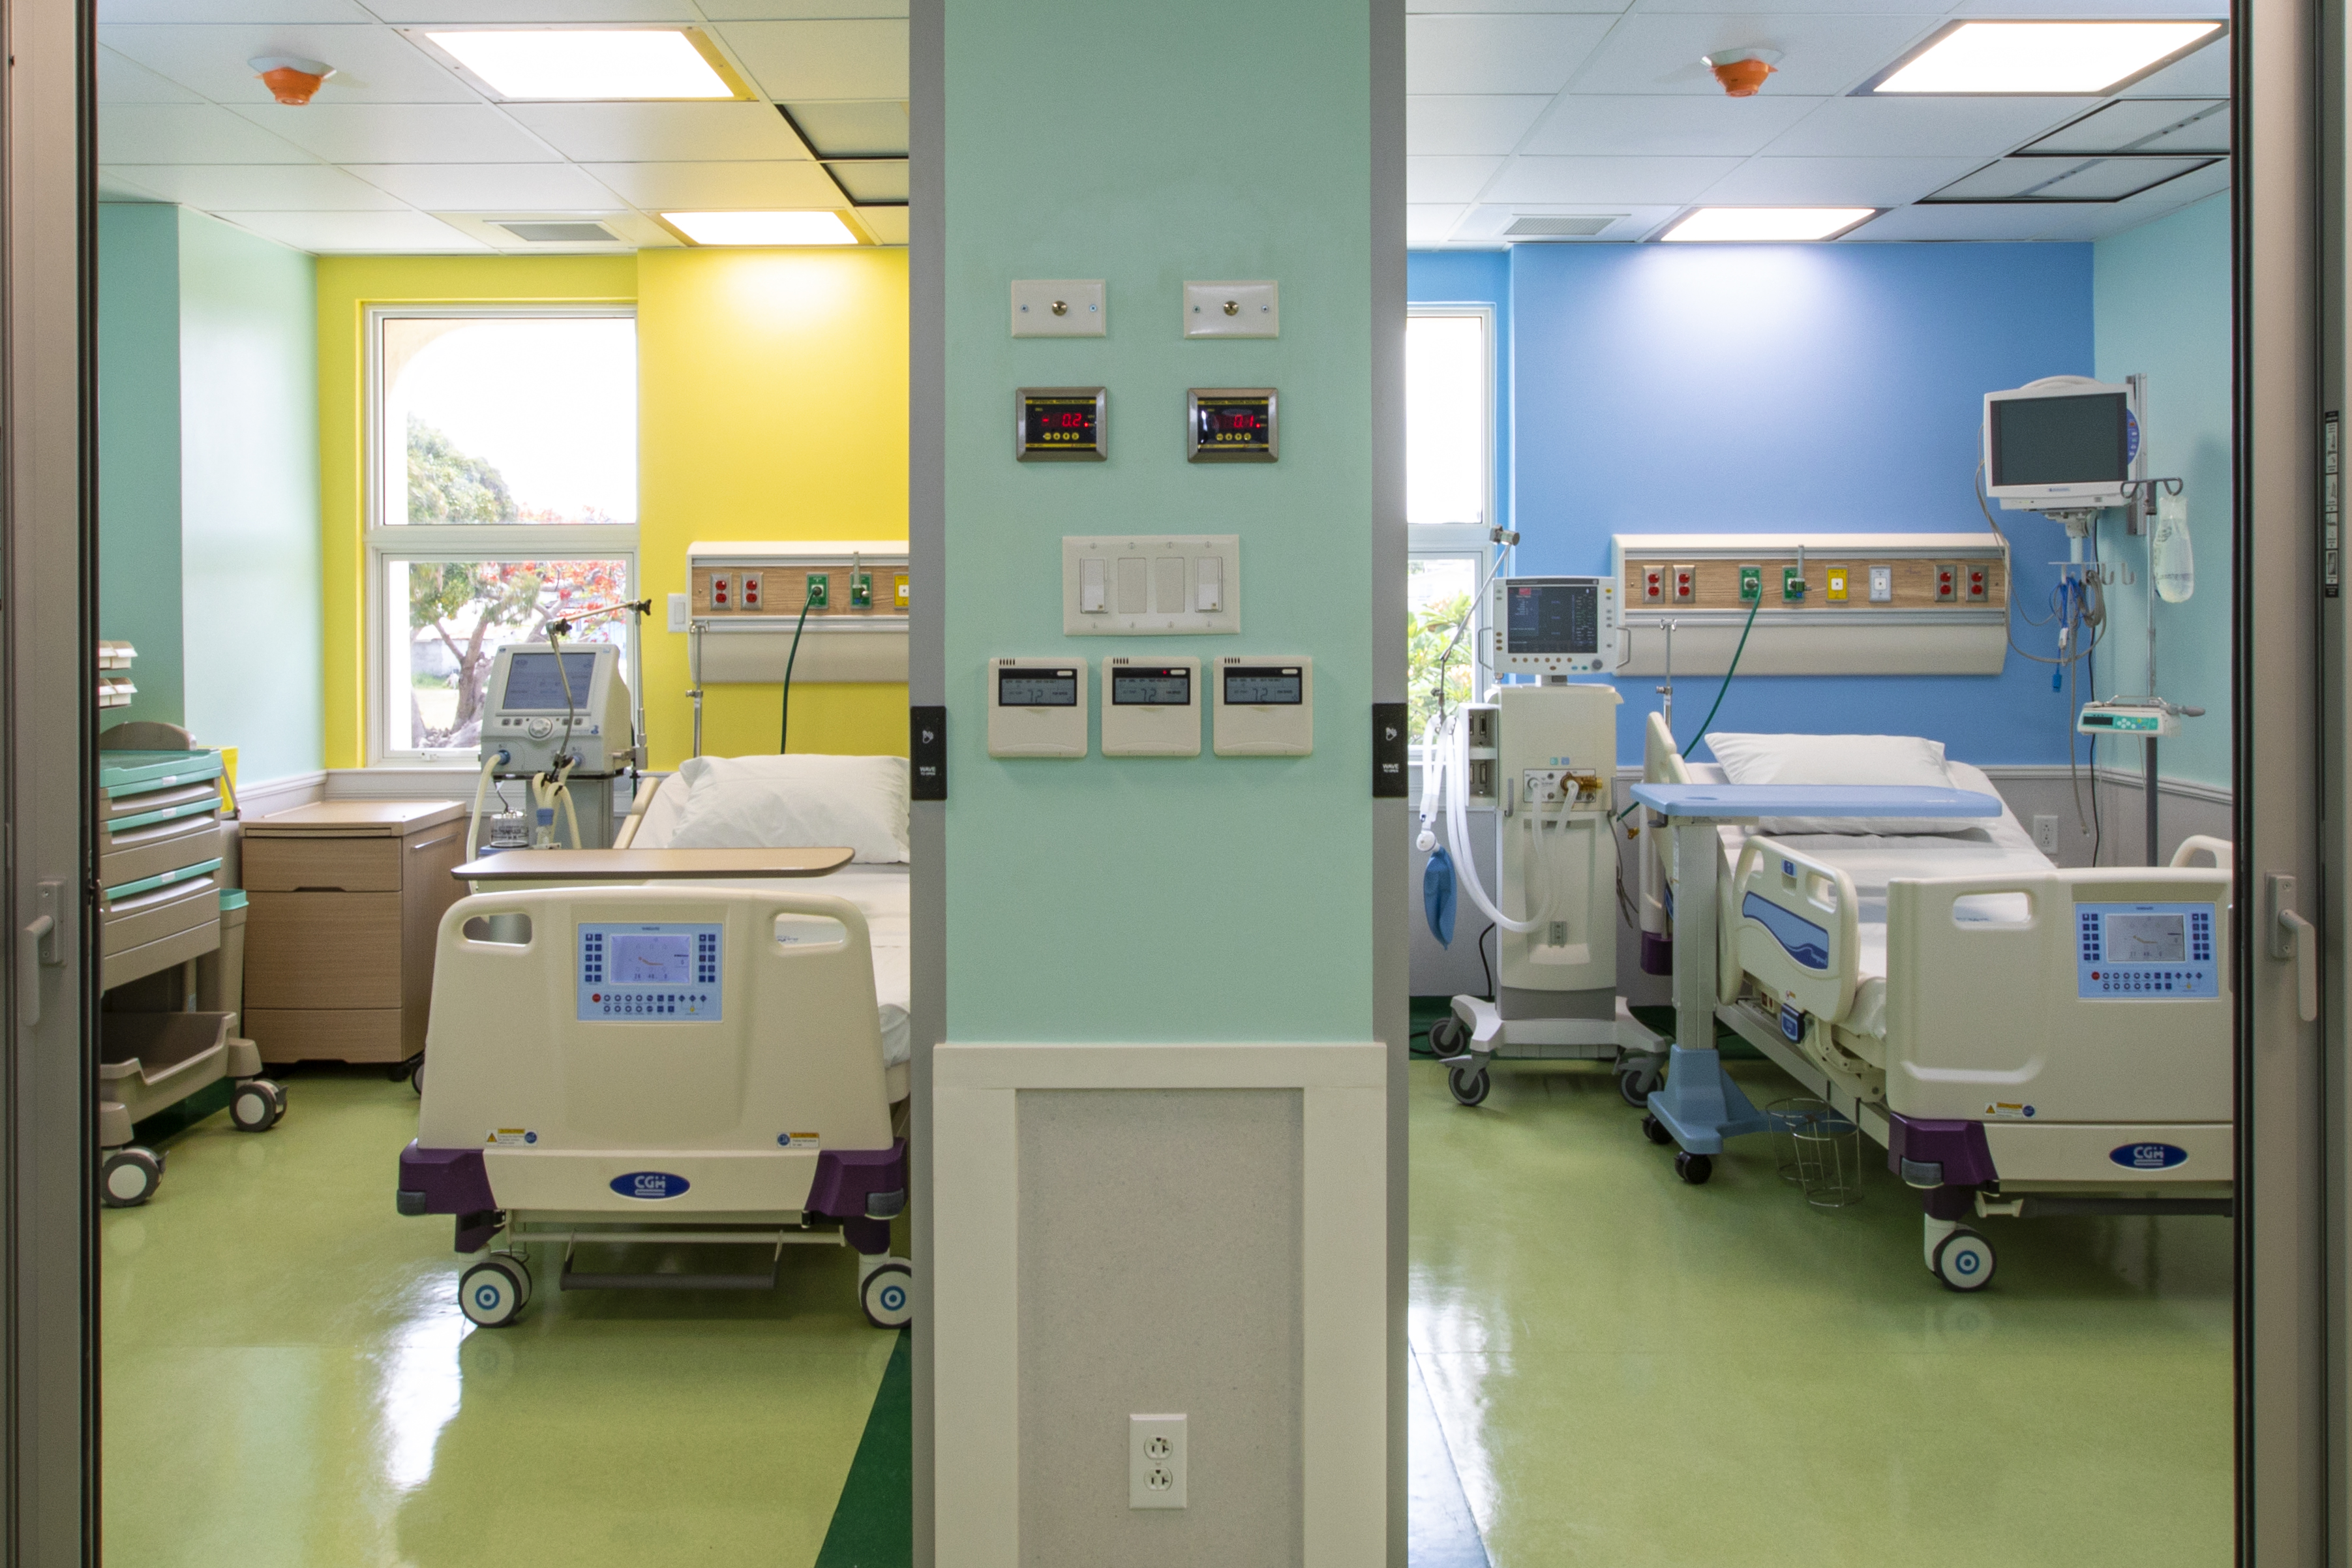bedrail: (1645, 710, 1743, 1004), (1734, 833, 1860, 1025), (2173, 835, 2233, 870)
bedside_monitor: (1981, 392, 2145, 508), (1486, 579, 1622, 674), (485, 642, 618, 737)
breathing_tube: (1414, 695, 1578, 950), (465, 751, 584, 927)
door_handle: (17, 868, 72, 1029), (2264, 868, 2319, 1020)
drawer: (238, 796, 465, 1083)
foot_board: (401, 887, 906, 1218), (1885, 866, 2233, 1193)
handle: (292, 889, 348, 894)
hospital_bed: (1640, 710, 2236, 1291), (394, 756, 912, 1328)
iv_pole: (2119, 476, 2194, 873)
light_switch: (1060, 521, 1265, 646)
overbed_table: (1631, 782, 2002, 1183), (448, 849, 861, 905)
syringe_pump: (2075, 691, 2186, 740)
utility_cart: (100, 742, 285, 1207)
ventilator: (1447, 681, 1683, 1099), (479, 756, 632, 950)
